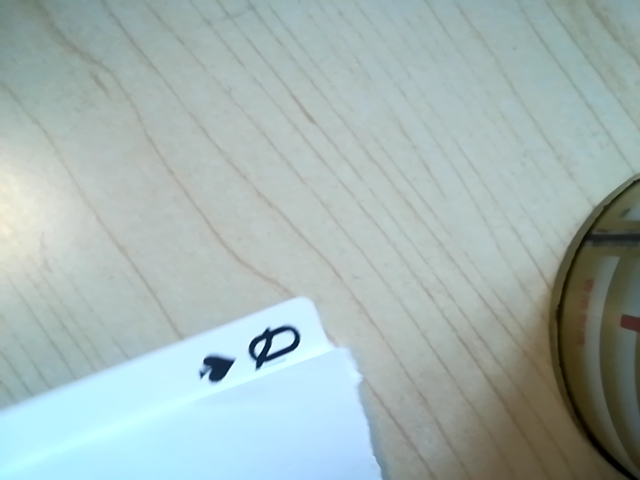ht q: (183, 313, 322, 392)
